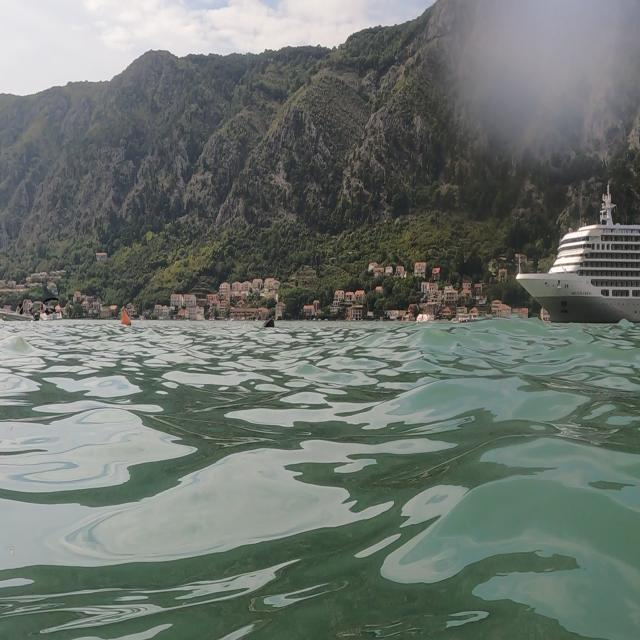boat: (514, 176, 639, 326)
buoy: (114, 302, 138, 332), (257, 308, 279, 334)
